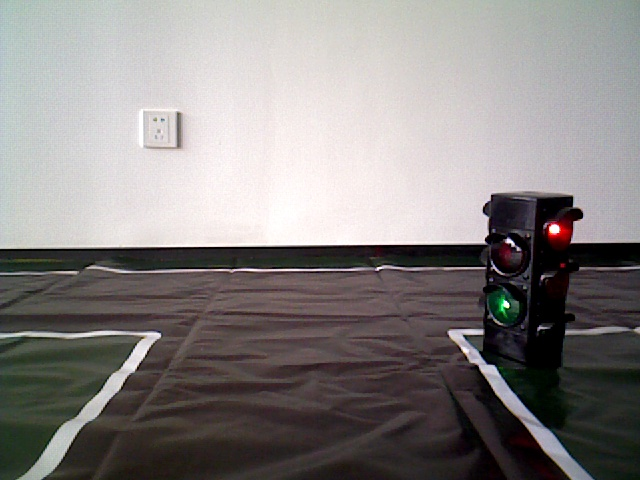red: (486, 194, 562, 369)
